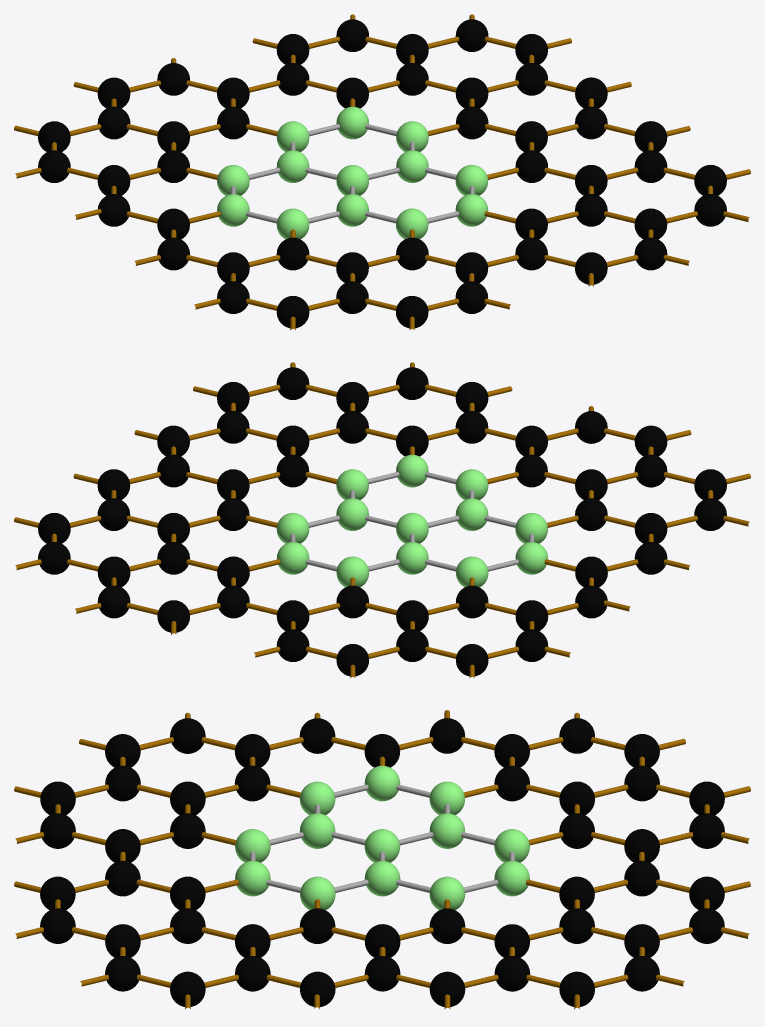
The model's file is index.gltf.
The picture shows the model from 3 angles, top to bottom: view 1: azimuth 30°, elevation 25°; view 2: azimuth 150°, elevation 25°; view 3: azimuth 270°, elevation 25°; orthographic projection. The views are drawn at different scales.
Parts seen in each view (by area): view 1: node_Sphere162_-20702, node_Sphere131_-20640, node_Sphere104_-20586, node_Sphere115_-20608, node_Sphere137_-20652, node_Sphere156_-20690, node_Sphere164_-20706, node_Sphere107_-20592, node_Sphere108_-20594, node_Sphere127_-20632, node_Sphere150_-20678, node_Sphere126_-20630 (+50 smaller); view 2: node_Sphere128_-20634, node_Sphere133_-20644, node_Sphere153_-20684, node_Sphere156_-20690, node_Sphere158_-20694, node_Sphere131_-20640, node_Sphere141_-20660, node_Sphere107_-20592, node_Sphere108_-20594, node_Sphere125_-20628, node_Sphere137_-20652, node_Sphere149_-20676 (+50 smaller); view 3: node_Sphere115_-20608, node_Sphere125_-20628, node_Sphere162_-20702, node_Sphere127_-20632, node_Sphere131_-20640, node_Sphere137_-20652, node_Sphere143_-20664, node_Sphere123_-20624, node_Sphere142_-20662, node_Sphere153_-20684, node_Sphere108_-20594, node_Sphere111_-20600 (+50 smaller).
Part boxes in pixels (left/top/right/bottom): node_Sphere162_-20702: left=634, top=237, right=667, bottom=270; node_Sphere131_-20640: left=396, top=63, right=428, bottom=95; node_Sphere104_-20586: left=157, top=63, right=189, bottom=95; node_Sphere115_-20608: left=217, top=194, right=249, bottom=226; node_Sphere137_-20652: left=396, top=150, right=428, bottom=182; node_Sphere156_-20690: left=575, top=106, right=607, bottom=139; node_Sphere164_-20706: left=694, top=194, right=726, bottom=226; node_Sphere107_-20592: left=97, top=106, right=130, bottom=139; node_Sphere108_-20594: left=217, top=106, right=249, bottom=139; node_Sphere127_-20632: left=336, top=194, right=368, bottom=226; node_Sphere150_-20678: left=336, top=281, right=368, bottom=313; node_Sphere126_-20630: left=157, top=237, right=189, bottom=270; node_Sphere128_-20634: left=396, top=542, right=428, bottom=574; node_Sphere133_-20644: left=38, top=542, right=70, bottom=574; node_Sphere153_-20684: left=336, top=411, right=368, bottom=443; node_Sphere156_-20690: left=157, top=454, right=189, bottom=487; node_Sphere158_-20694: left=575, top=411, right=607, bottom=443; node_Sphere131_-20640: left=157, top=542, right=189, bottom=574; node_Sphere141_-20660: left=515, top=454, right=547, bottom=487; node_Sphere107_-20592: left=396, top=629, right=428, bottom=661; node_Sphere108_-20594: left=336, top=585, right=368, bottom=618; node_Sphere125_-20628: left=575, top=498, right=607, bottom=530; node_Sphere137_-20652: left=336, top=498, right=368, bottom=530; node_Sphere149_-20676: left=217, top=411, right=249, bottom=443; node_Sphere115_-20608: left=364, top=765, right=400, bottom=801; node_Sphere125_-20628: left=234, top=765, right=270, bottom=801; node_Sphere162_-20702: left=40, top=908, right=75, bottom=943; node_Sphere127_-20632: left=299, top=813, right=335, bottom=848; node_Sphere131_-20640: left=559, top=908, right=594, bottom=943; node_Sphere137_-20652: left=364, top=860, right=400, bottom=896; node_Sphere143_-20664: left=429, top=908, right=465, bottom=943; node_Sphere123_-20624: left=689, top=908, right=724, bottom=943; node_Sphere142_-20662: left=299, top=908, right=335, bottom=943; node_Sphere153_-20684: left=170, top=908, right=205, bottom=943; node_Sphere108_-20594: left=559, top=813, right=594, bottom=848; node_Sphere111_-20600: left=559, top=718, right=594, bottom=753.
Size of the model in its own units: 0.942 by 0.0482 by 0.9942.
